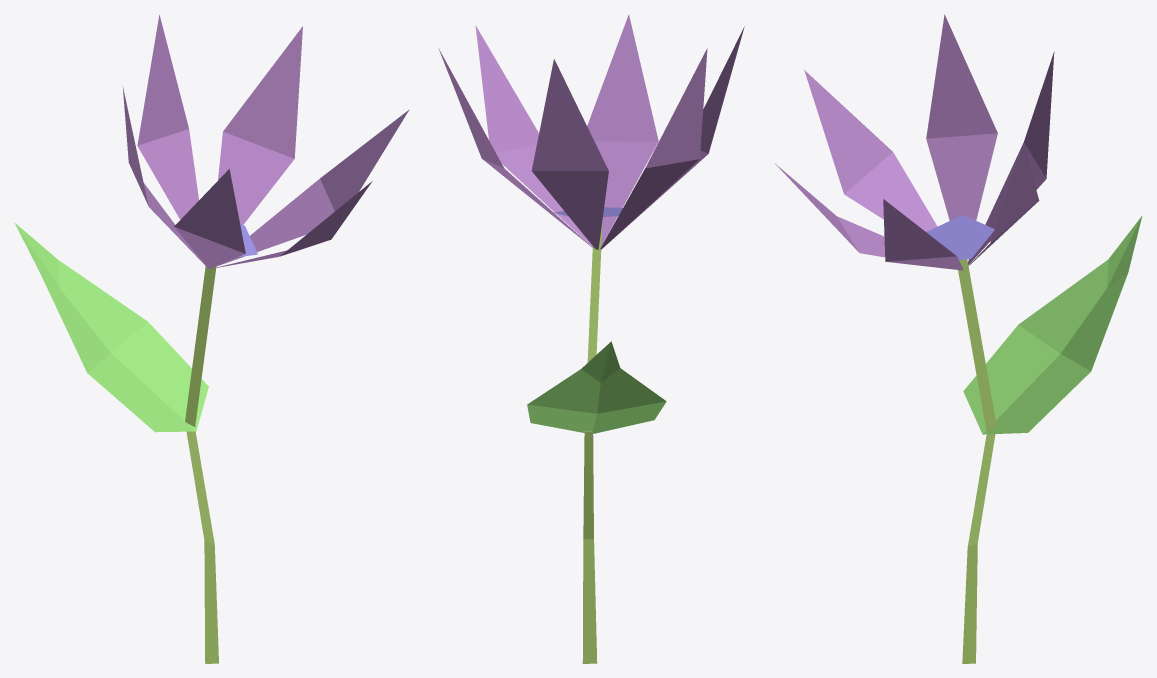
File: Flower_b_OneS_06.fbx
3 renders of one model, left to right at view 1: azimuth 30°, elevation 25°; view 2: azimuth 150°, elevation 25°; view 3: azimuth 270°, elevation 25°, orthographic. The views are drawn at different scales.
Parts seen in each view (by area): view 1: Flower_b_OneS_06; view 2: Flower_b_OneS_06; view 3: Flower_b_OneS_06.
Boxes of the visible parts, x1,y1,x2,y2 form: Flower_b_OneS_06: (14,14,409,663); Flower_b_OneS_06: (438,14,744,663); Flower_b_OneS_06: (775,14,1142,663).
Size of the model in its own units: 20.78 by 46.56 by 25.65.
